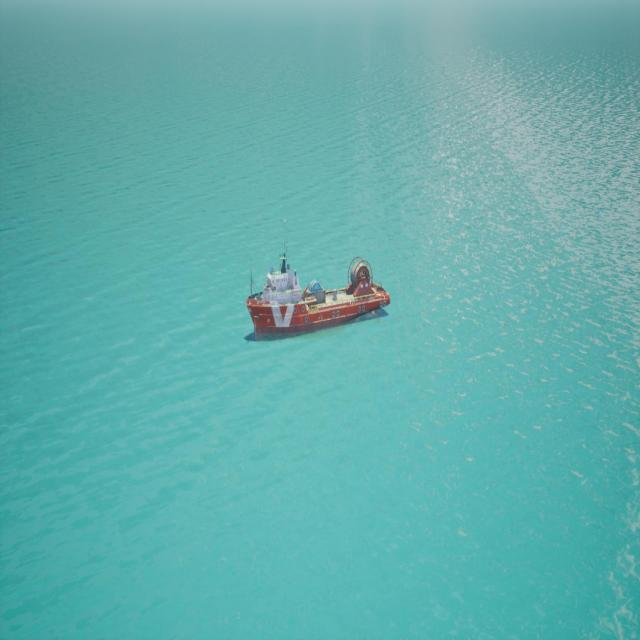tug boat: (244, 218, 391, 345)
